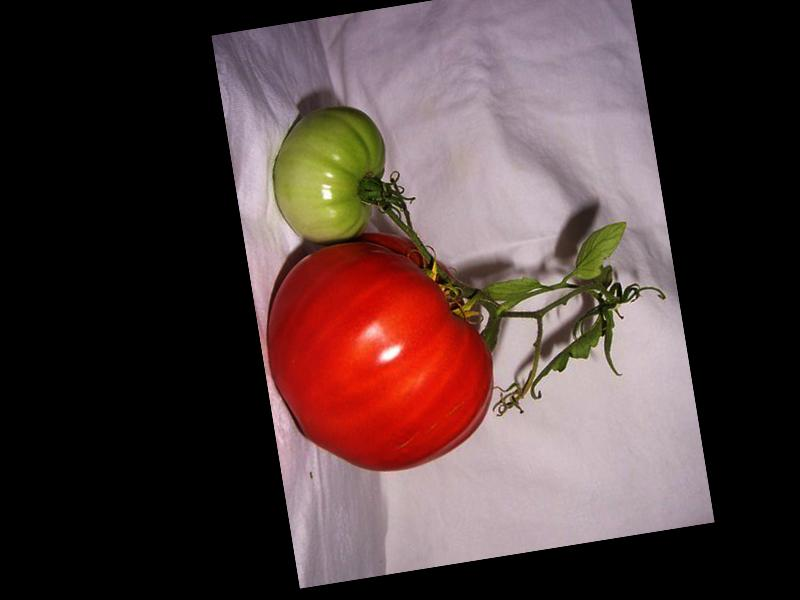Tomato: (253, 216, 506, 487)
